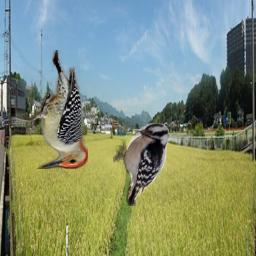Woodpecker: (11, 50, 88, 169), (113, 123, 169, 206)
